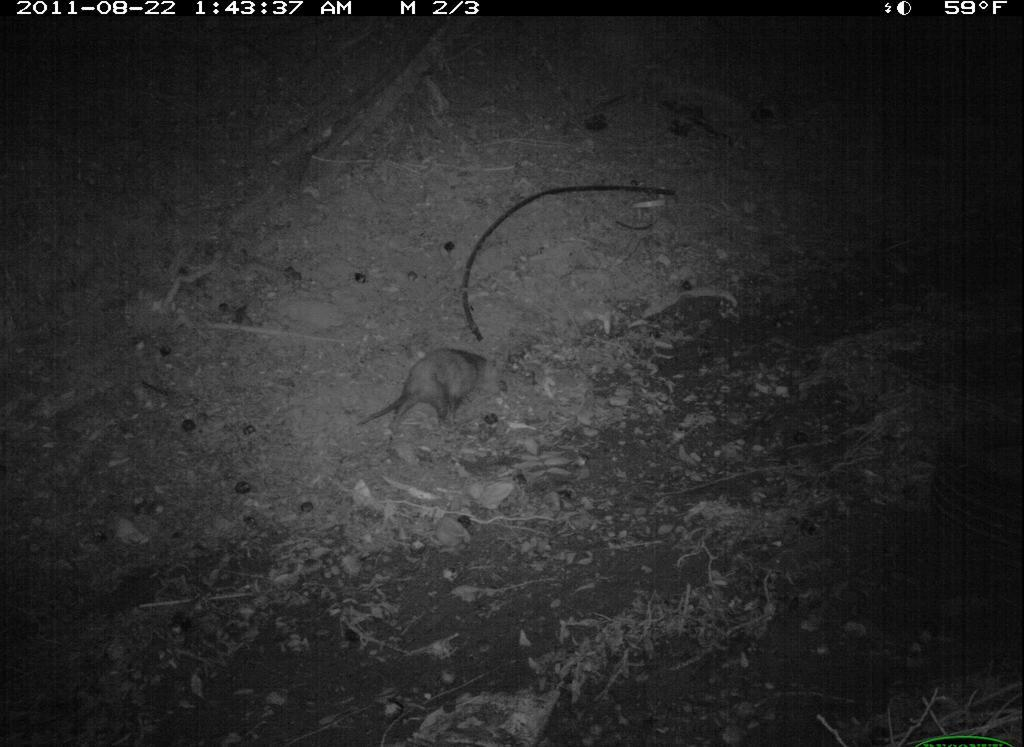opossum: (360, 312, 518, 470)
